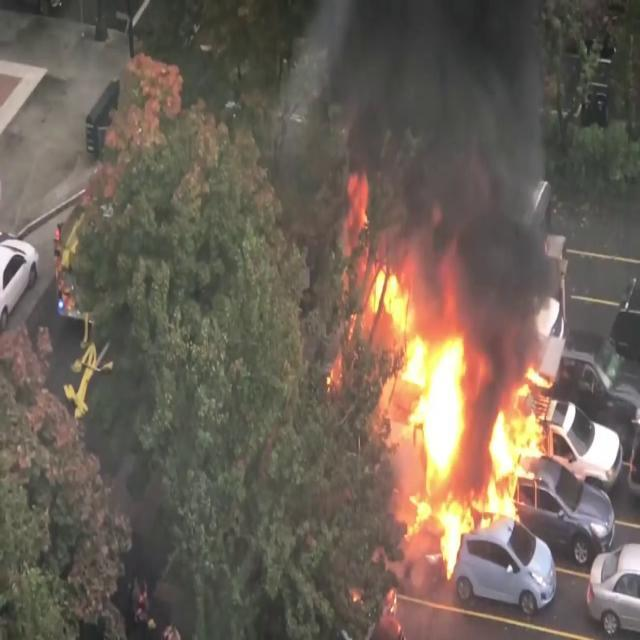Fire: (352, 257, 558, 550)
Smoke: (244, 1, 572, 300)
